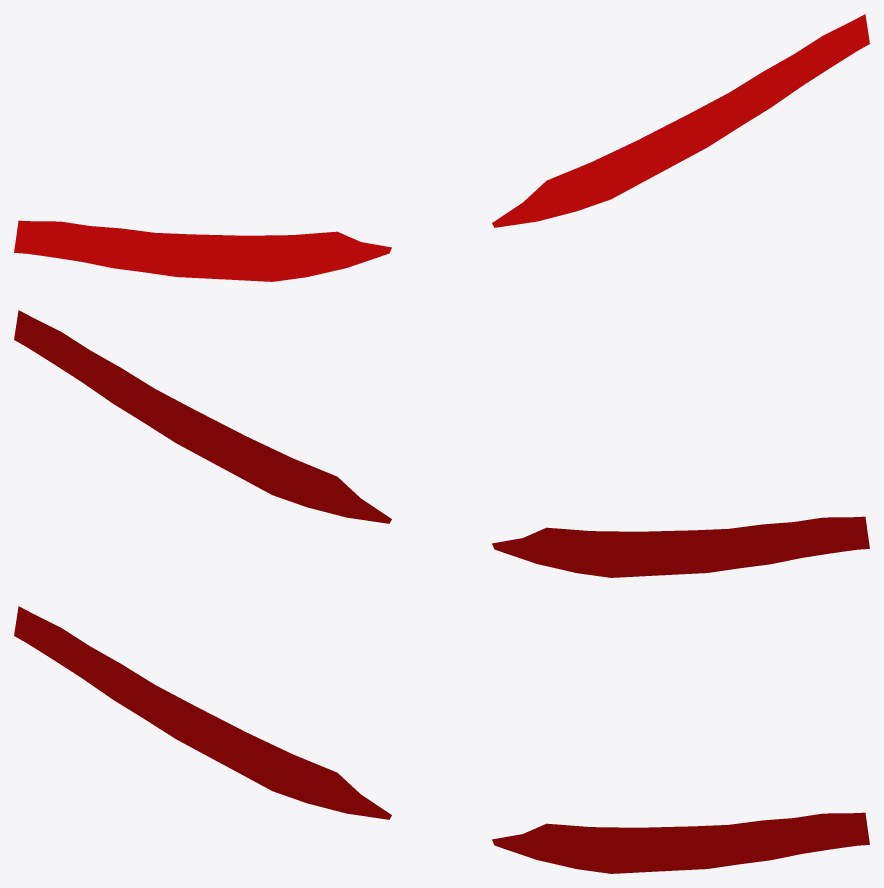
File: frame80.fbx
3 views of the same model, one above another, from view 1: azimuth 30°, elevation 25°; view 2: azimuth 150°, elevation 25°; view 3: azimuth 330°, elevation 25° (orthographic).
Parts seen in each view (by area): view 1: MaterialLayer; view 2: MaterialLayer; view 3: MaterialLayer.
Boxes of the visible parts, x1,y1,x2,y2 form: MaterialLayer: (14,14,869,281); MaterialLayer: (14,310,869,577); MaterialLayer: (14,606,869,873).
Size of the model in its own units: 1307 by 186 by 0.000191.
